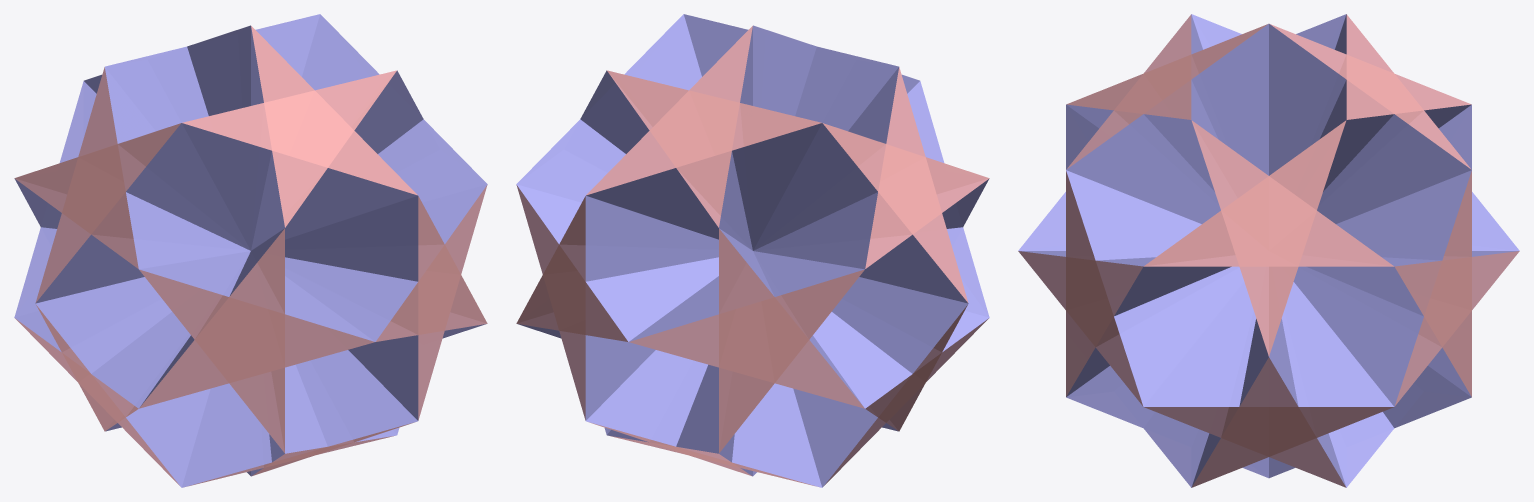
Rendered from SmallDodecahemicosahedron.obj.
3 renders of one model, left to right at view 1: azimuth 30°, elevation 25°; view 2: azimuth 150°, elevation 25°; view 3: azimuth 270°, elevation 25°, orthographic.
Bounding box in the file's own units: 2 × 2 × 2.
